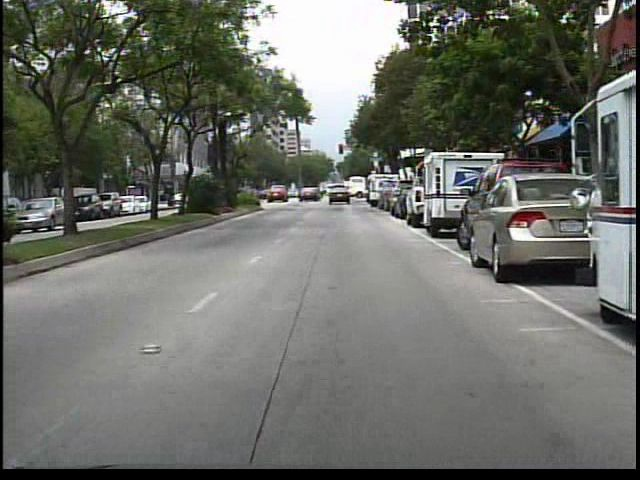person: (329, 183, 342, 203)
